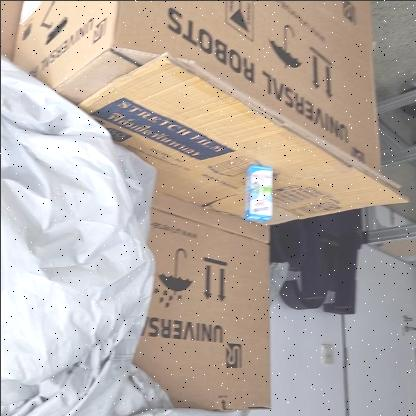Others: (239, 159, 277, 225)
